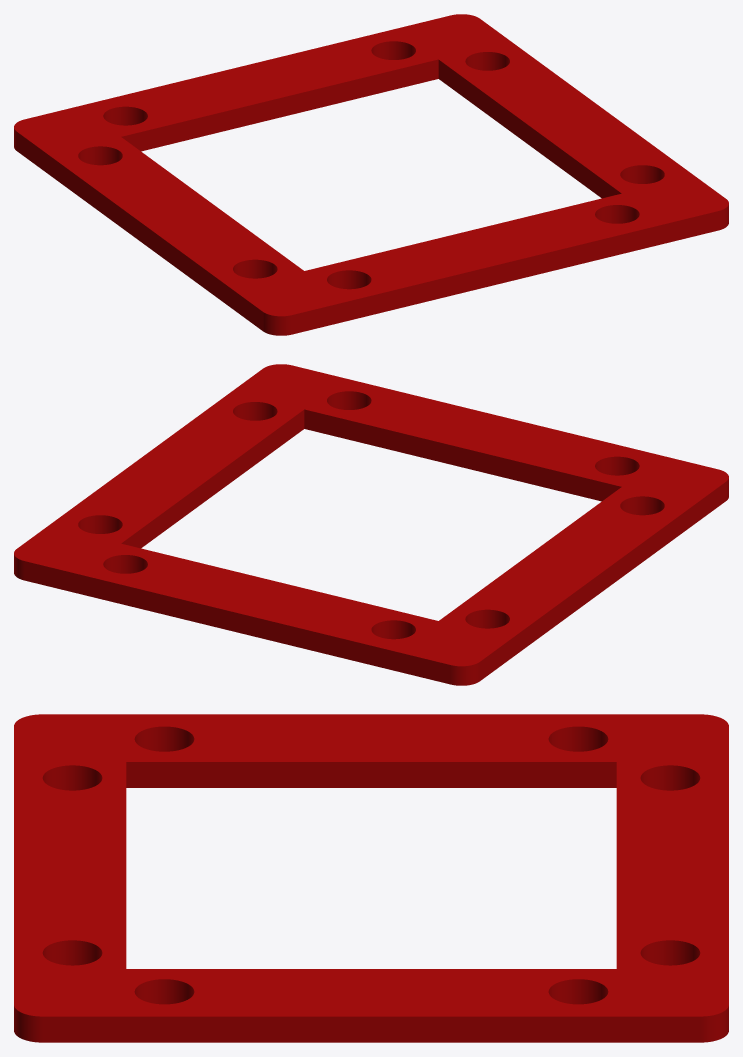
File: V5_Interlinking Baseplate Spacer.obj
3 renders of one model, top to bottom at view 1: azimuth 30°, elevation 25°; view 2: azimuth 150°, elevation 25°; view 3: azimuth 270°, elevation 25°, orthographic. The views are drawn at different scales.
Parts seen in each view (by area): view 1: Solid1:38; view 2: Solid1:38; view 3: Solid1:38.
Part boxes in pixels (<box>): Solid1:38: <box>14,14,728,335</box>; Solid1:38: <box>14,364,728,685</box>; Solid1:38: <box>14,714,728,1042</box>.
Size of the model in its own units: 49.75 by 2 by 49.75.
